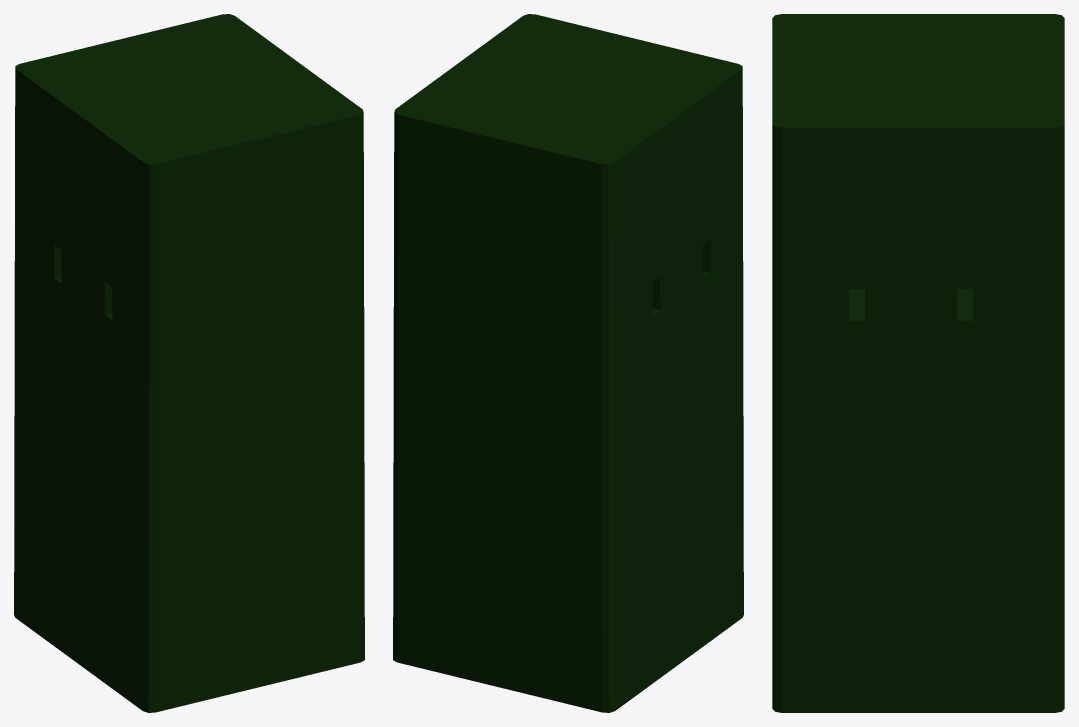
Rendered from tower7.fbx.
The picture shows the model from 3 angles, left to right: view 1: azimuth 30°, elevation 25°; view 2: azimuth 150°, elevation 25°; view 3: azimuth 270°, elevation 25°; orthographic projection. The views are drawn at different scales.
Visible parts, largest first — view 1: tower7; view 2: tower7; view 3: tower7.
Boxes of the visible parts, x1=… form: tower7: x1=14, y1=14, x2=364, y2=712; tower7: x1=393, y1=14, x2=743, y2=712; tower7: x1=772, y1=14, x2=1064, y2=712.
Bounding box in the file's own units: 4.18 × 9.91 × 4.49.
